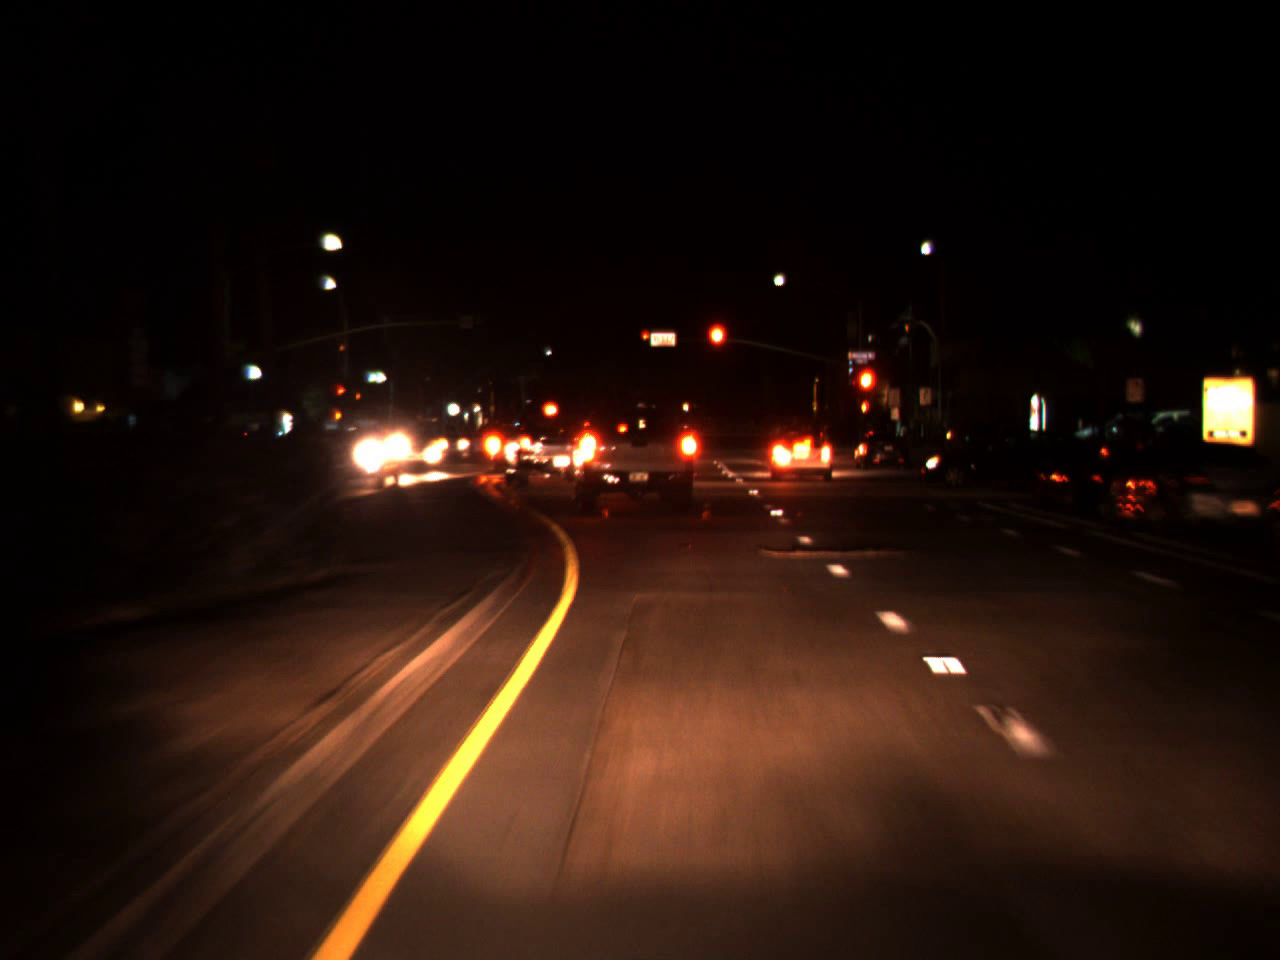stop: (853, 363, 880, 419), (704, 320, 729, 371), (333, 383, 348, 407), (640, 330, 652, 348)
